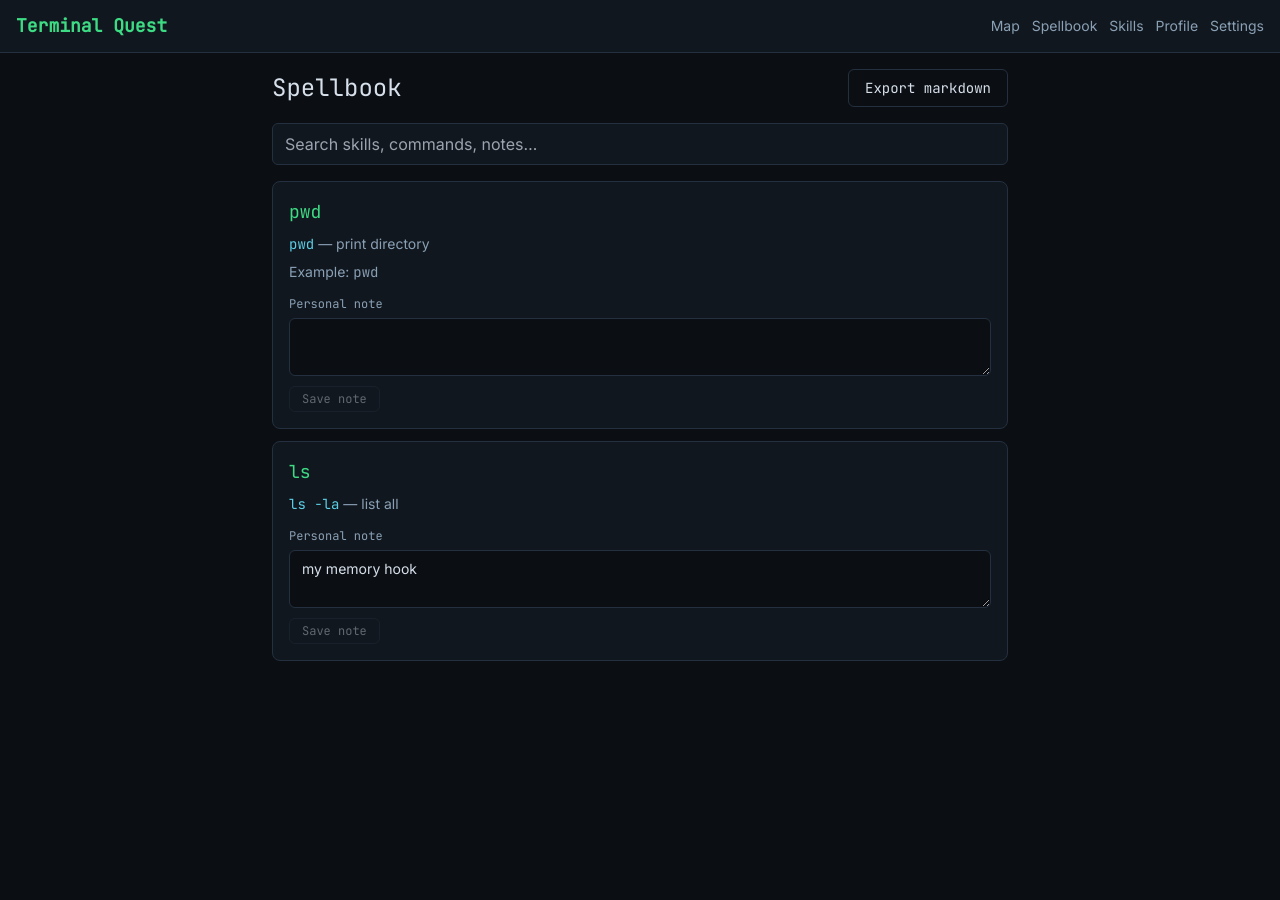
SpellbookPage › filters entries by search query
expect the list item with test id "spellbook-entry-pwd" is shown: met, box [272,181,1008,429]
In the search field with placeholder "Search skills, commands, notes…": (640, 144) [272,123,1008,165], type "memory hook"
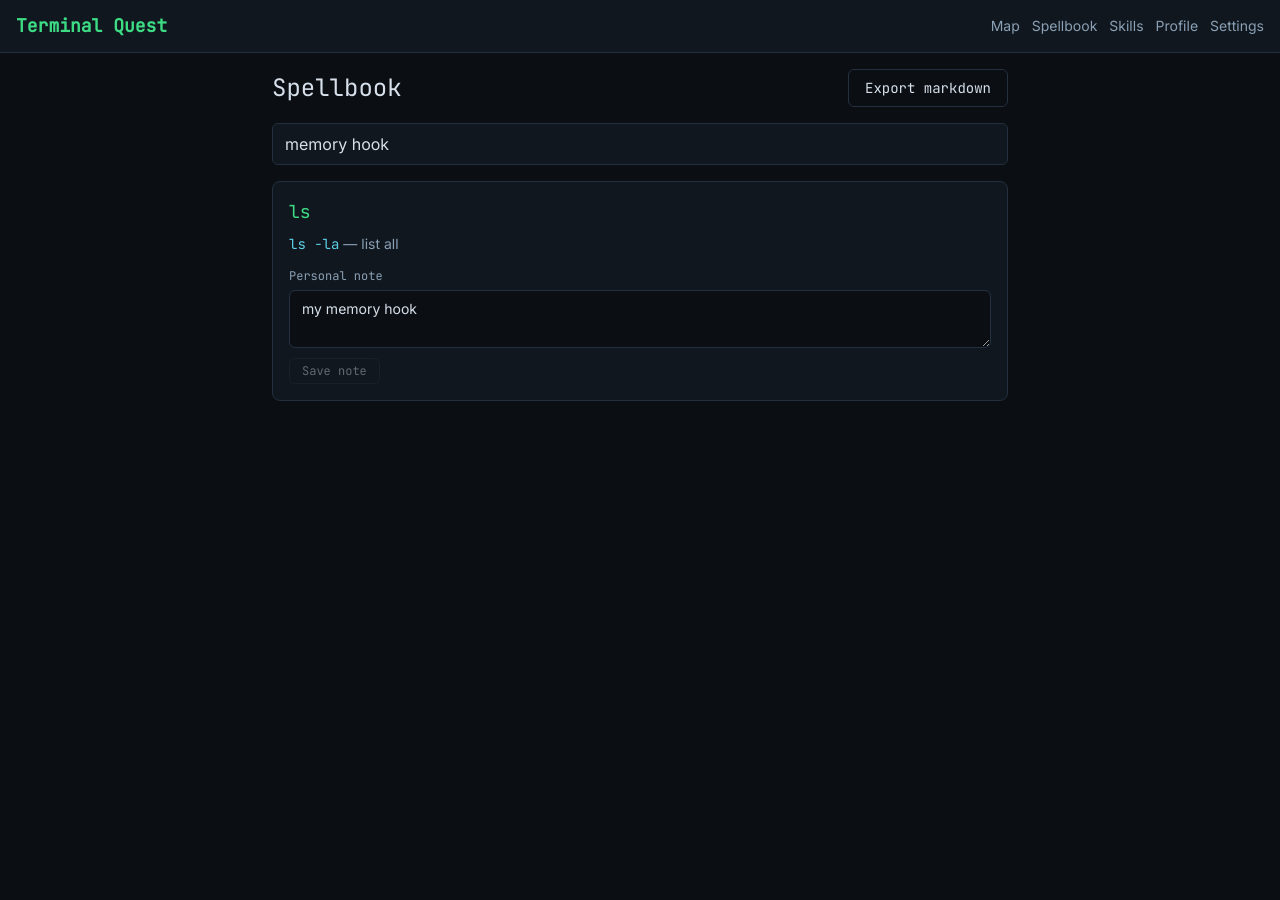
expect the list item with test id "spellbook-entry-ls" is shown: met, box [272,181,1008,401]
expect the list item with test id "spellbook-entry-pwd" is gone: met
Replace the text in the search field with placeholder "Search skills, commands, notes…" with "zzz-no-match": (640, 144) [272,123,1008,165]
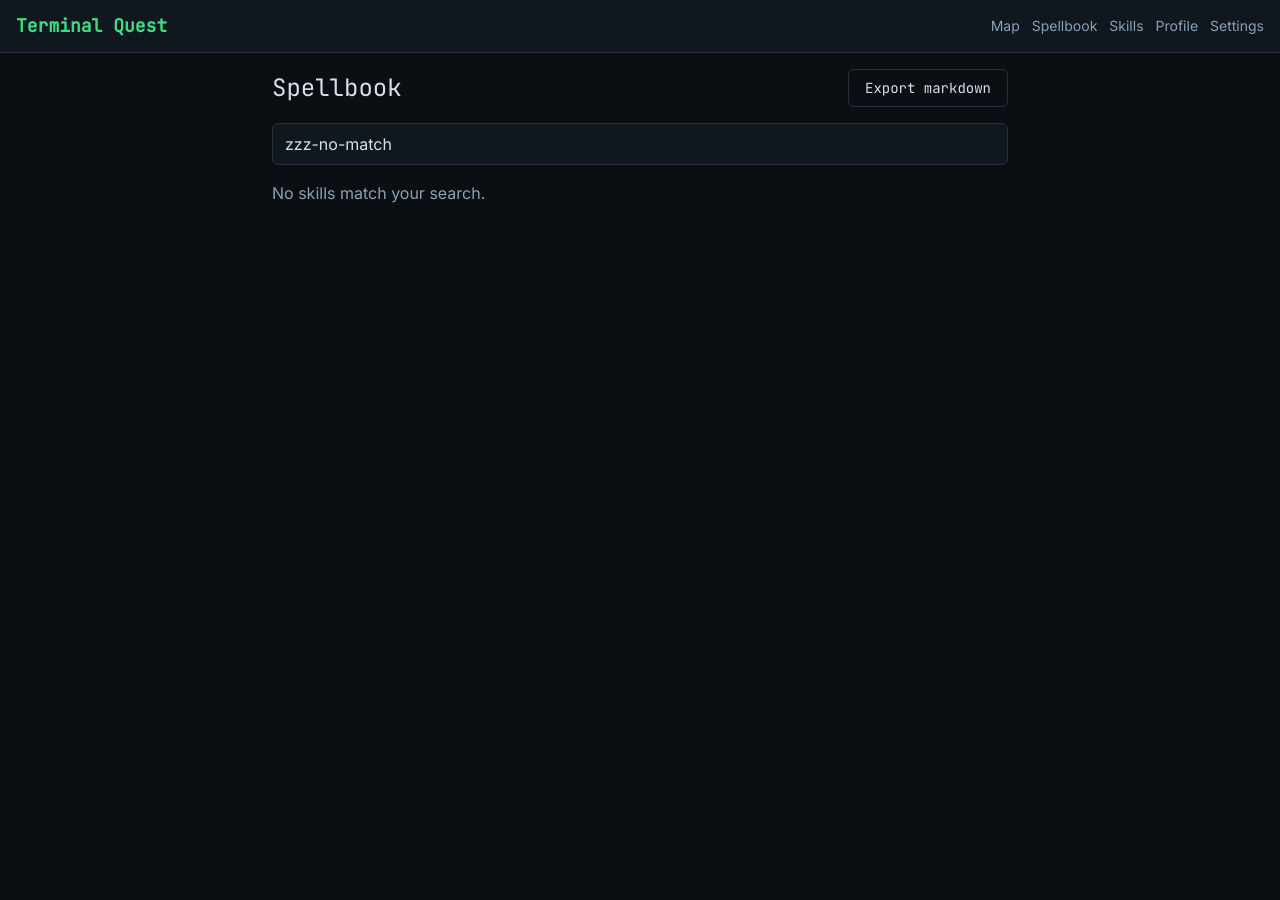
expect the text "No skills match your search." is shown: met, box [272,183,485,203]
